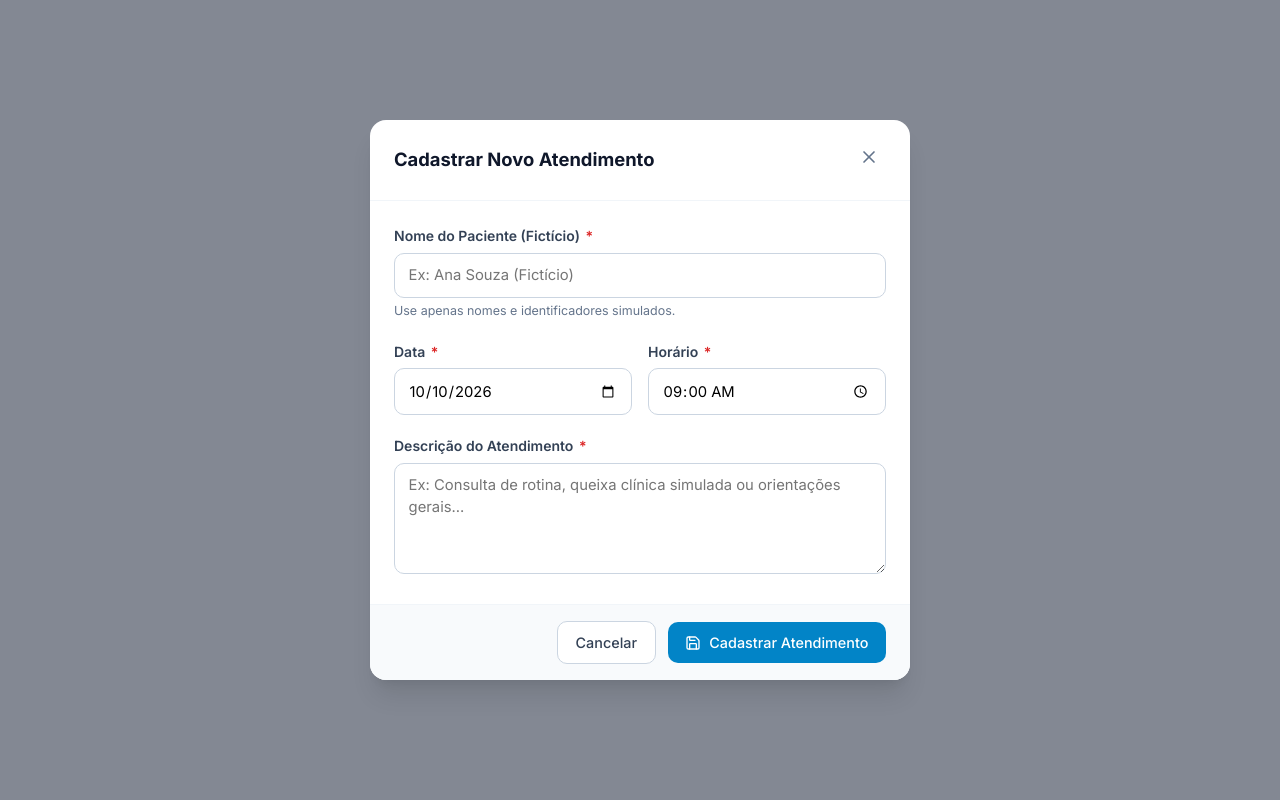
Test case: Gestão de Atendimentos de Saúde - Testes Funcionais › Validações do Formulário de Atendimento › valida tamanho mínimo de nome e descrição
The image size is (1280, 800).
Type "Ab" into the field labelled "Nome do Paciente (Fictício) *". click: x=640, y=275
box: [394,253,886,298]
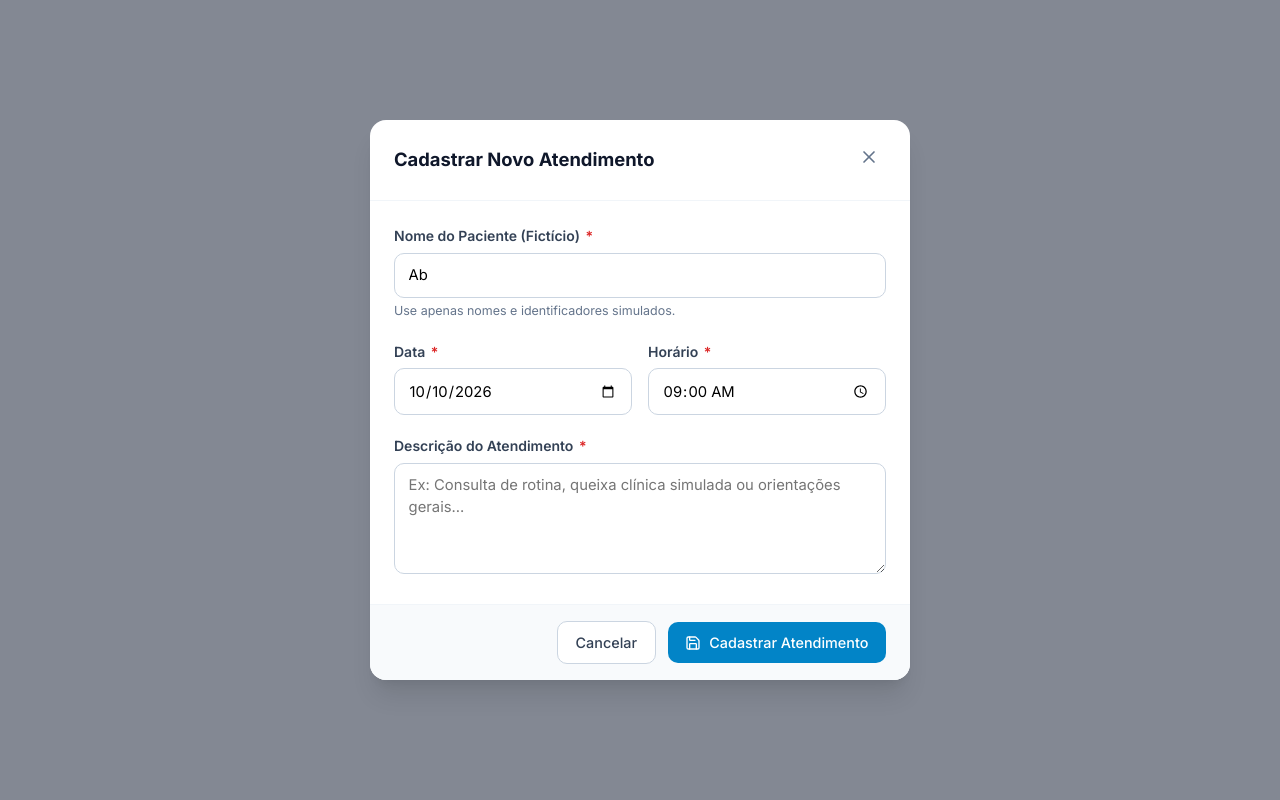
Replace the text in the text box labelled "Descrição do Atendimento *" with "Oi". click: x=640, y=519
box: [394,463,886,574]
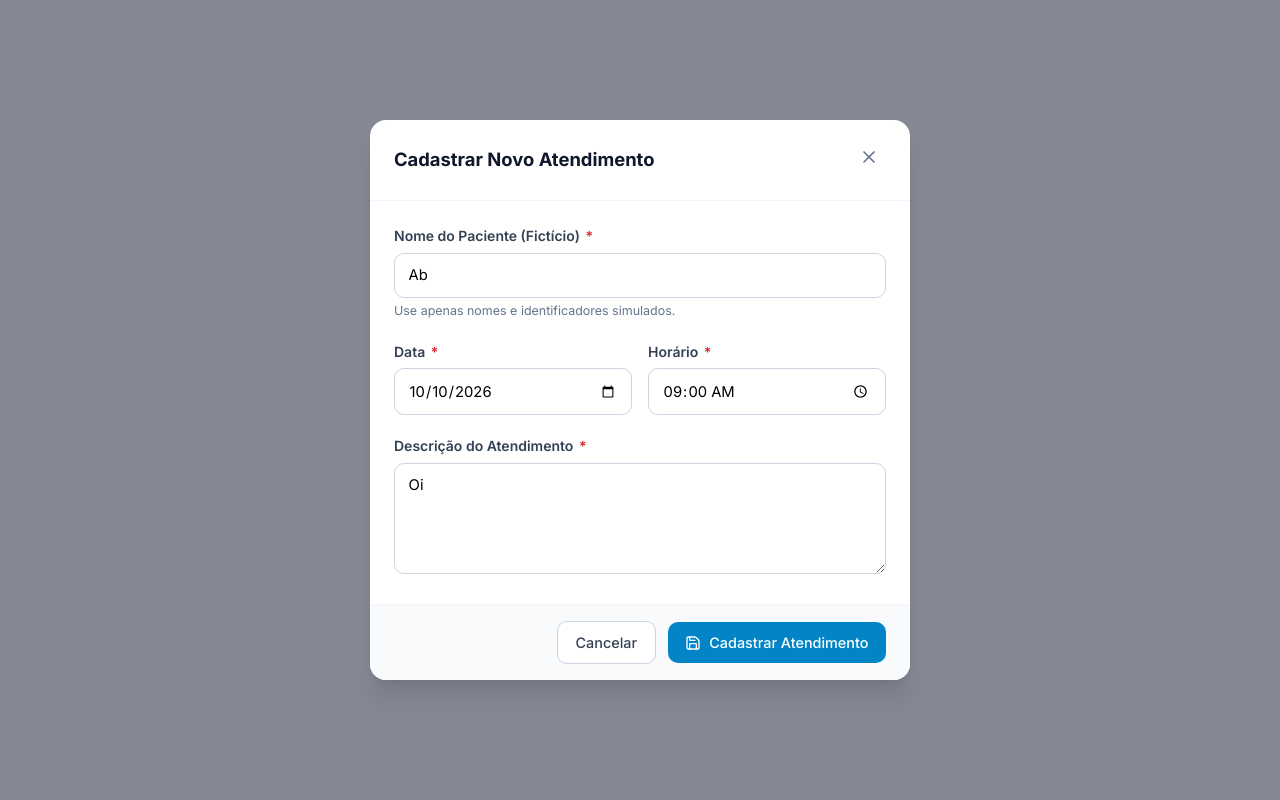
Click the button "Cadastrar Atendimento". click: x=777, y=643
box: [668,622,886,663]
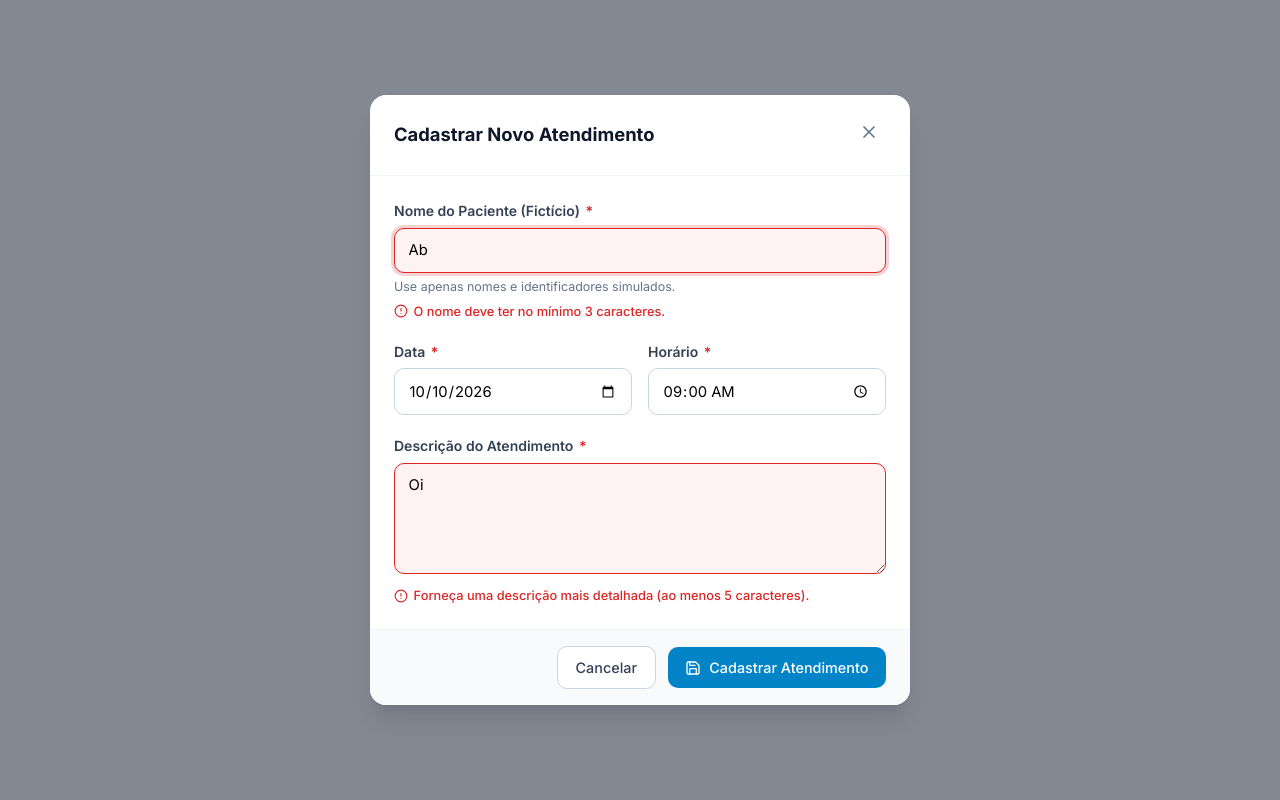
Now the text "O nome deve ter no mínimo 3 caracteres." is shown, box [414,302,665,321]
Now the text "ao menos 5 caracteres" is shown, box [414,588,809,603]
